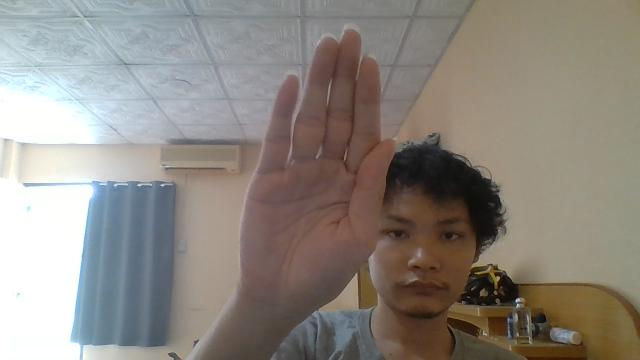Stop: (238, 26, 396, 316)
